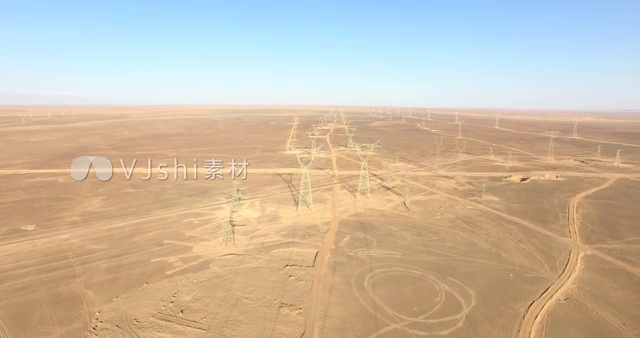tower_body: (288, 145, 326, 213), (346, 140, 385, 199)
tower_foot: (355, 177, 373, 196), (296, 192, 313, 211)
tower_head: (291, 146, 323, 169), (348, 141, 382, 161)
